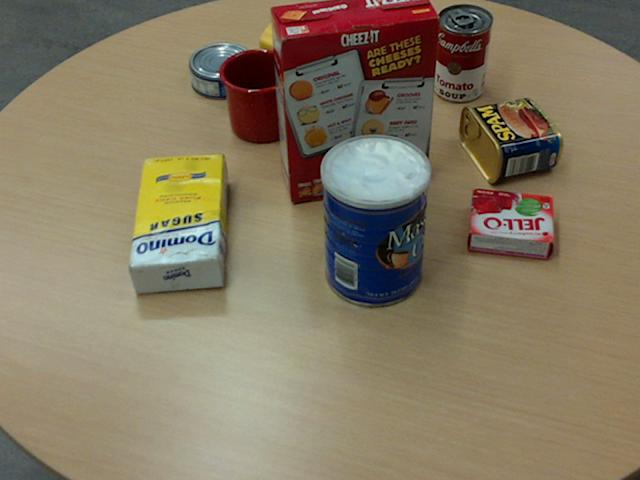cracker_box: (269, 0, 439, 201)
gelatin_box: (466, 187, 554, 257)
large_marker: (394, 37, 413, 127)
master_chef_can: (319, 134, 429, 307)
mug: (218, 48, 310, 142)
mustard_bottle: (259, 10, 402, 89)
potted_meat_can: (457, 97, 561, 183)
sugar_box: (126, 152, 224, 293)
tomato_soup_can: (433, 3, 492, 101)
tuna_fish_can: (188, 41, 254, 98)
